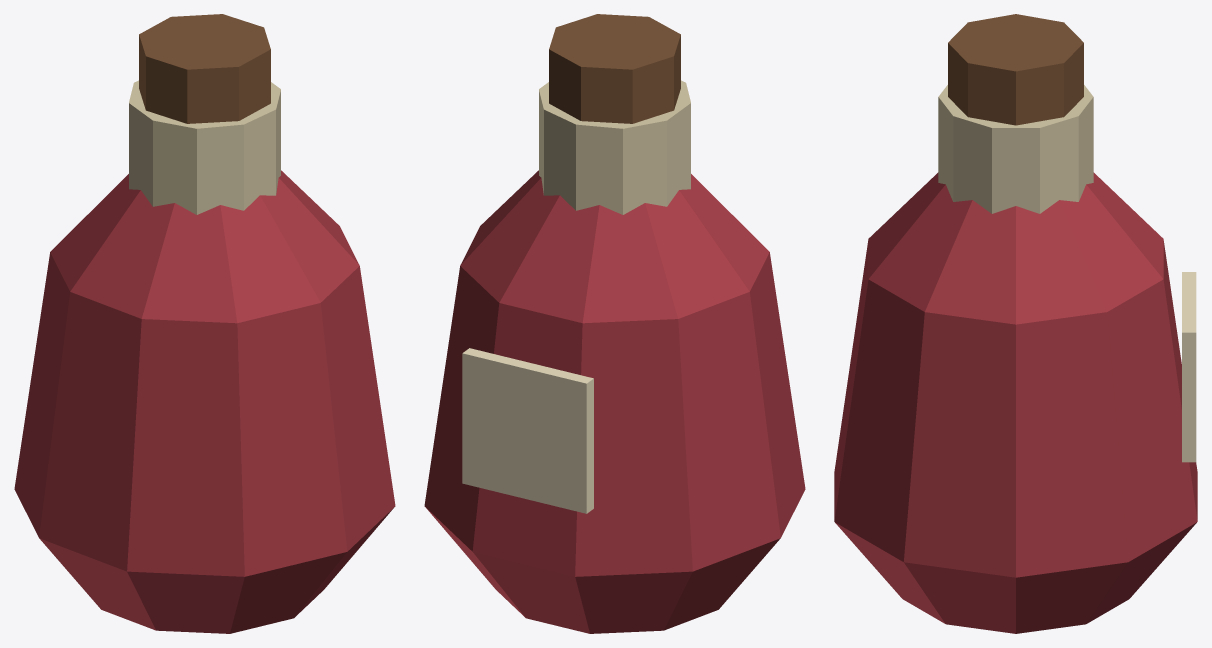
Rendered from consumable_health_potion.glb.
3 renders of one model, left to right at view 1: azimuth 30°, elevation 25°; view 2: azimuth 150°, elevation 25°; view 3: azimuth 270°, elevation 25°, orthographic.
Visible parts, largest first — view 1: consumable_health_potion; view 2: consumable_health_potion; view 3: consumable_health_potion.
Boxes of the visible parts, x1=… form: consumable_health_potion: x1=14, y1=14, x2=395, y2=633; consumable_health_potion: x1=424, y1=14, x2=805, y2=633; consumable_health_potion: x1=834, y1=14, x2=1197, y2=633.
Bounding box in the file's own units: 0.32 × 0.5 × 0.3043.
